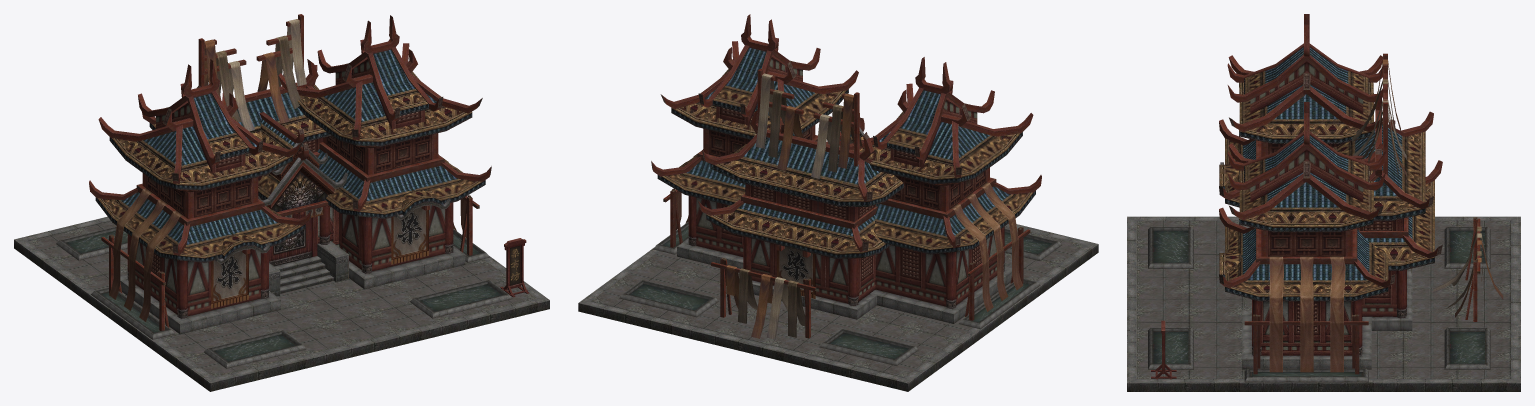
3 renders of one model, left to right at view 1: azimuth 30°, elevation 25°; view 2: azimuth 150°, elevation 25°; view 3: azimuth 270°, elevation 25°, orthographic. The views are drawn at different scales.
Visible parts, largest first — view 1: g_24; view 2: g_24; view 3: g_24.
Part boxes in pixels (box(x1,y1,x2,y2)): g_24: box(14, 14, 549, 391); g_24: box(578, 14, 1098, 391); g_24: box(1127, 14, 1520, 391).
Bounding box in the file's own units: 20 × 13.74 × 20.
2 materials, 2 textured.
